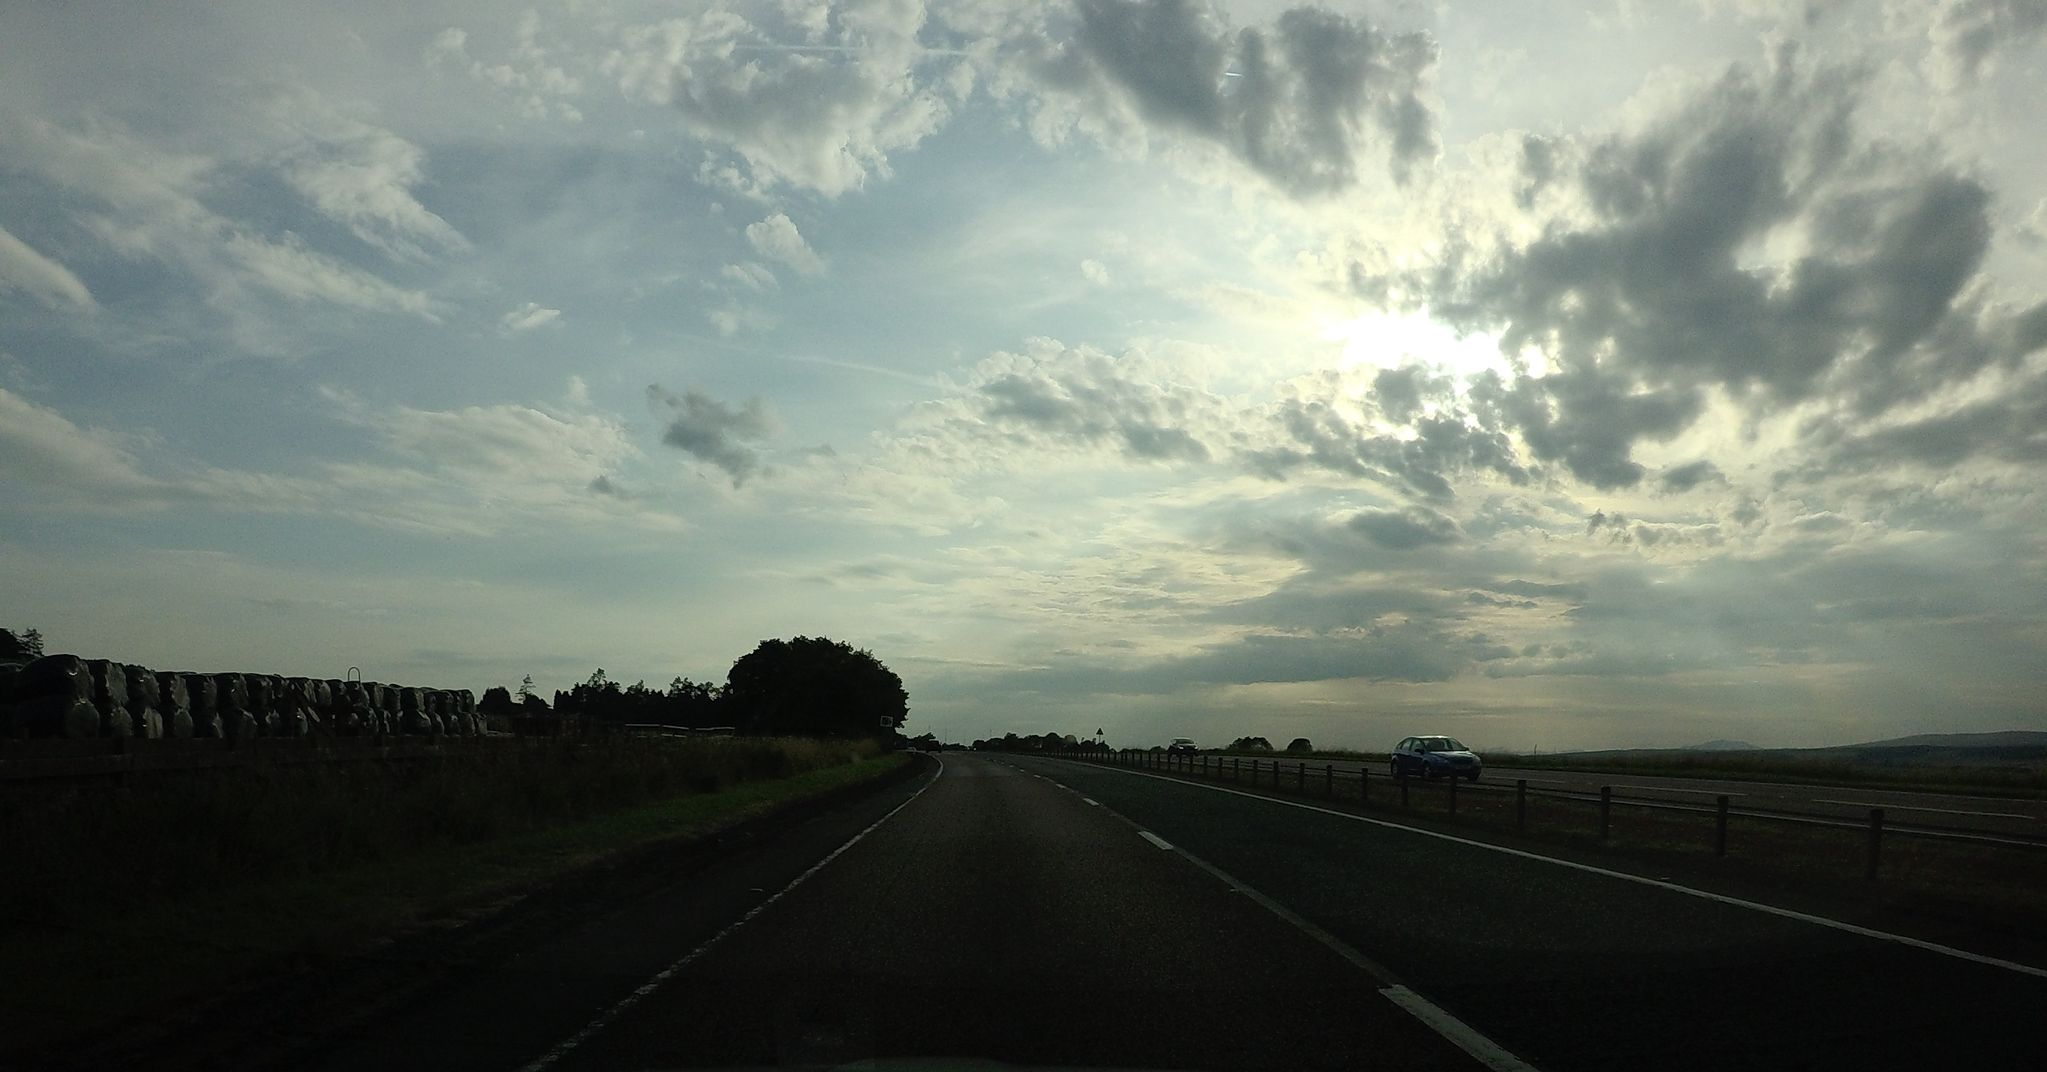car: (1390, 734, 1482, 781), (1167, 736, 1199, 757)
